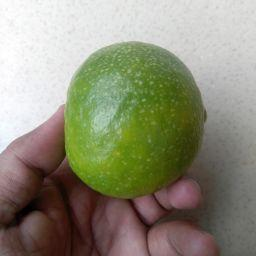Ripe: (65, 43, 206, 197)
